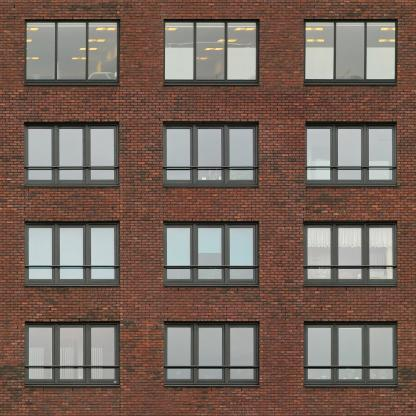Building Outline: (0, 0, 415, 415)
Facade: (0, 0, 416, 415)
Floor: (1, 0, 415, 105), (1, 314, 415, 407), (1, 212, 415, 305), (1, 113, 415, 204)
Floor Slab: (1, 407, 415, 415), (1, 105, 415, 113), (1, 204, 415, 212), (1, 305, 415, 313)
Window: (304, 19, 399, 83), (25, 20, 120, 83), (24, 122, 119, 185), (24, 222, 119, 285), (163, 322, 258, 385), (162, 122, 257, 185), (162, 222, 257, 285), (304, 322, 398, 385), (303, 122, 397, 185), (303, 221, 397, 284), (25, 322, 119, 385), (164, 20, 258, 83)
